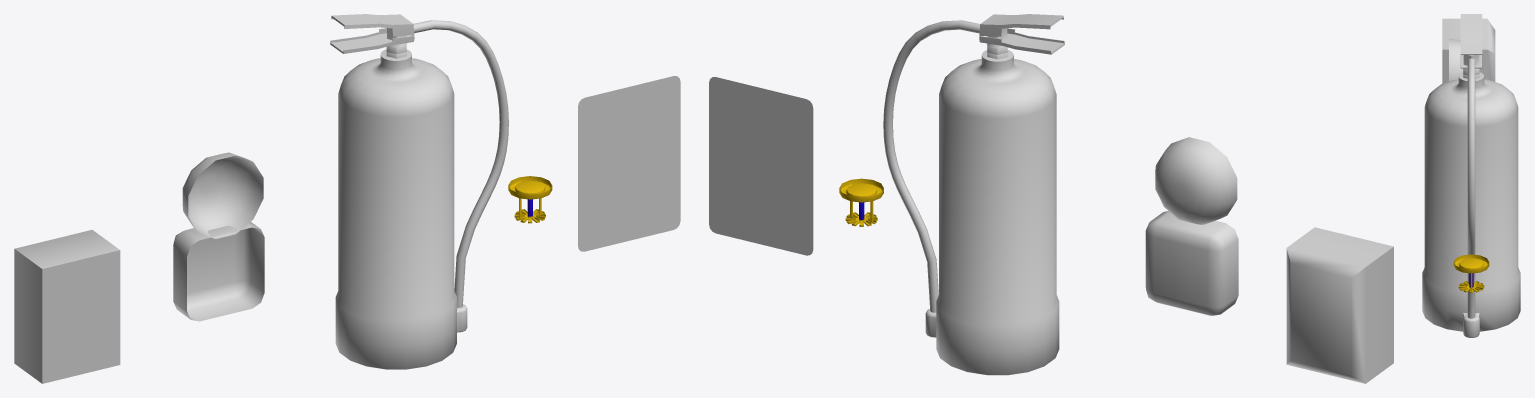
Rendered from Brandprops.fbx.
3 renders of one model, left to right at view 1: azimuth 30°, elevation 25°; view 2: azimuth 150°, elevation 25°; view 3: azimuth 270°, elevation 25°, orthographic. The views are drawn at different scales.
Visible parts, largest first — view 1: NurbsPath, Firealarm bord, Cube.001, Cylinder.002, Cylinder.003; view 2: NurbsPath, Firealarm bord, Cube.001, Cylinder.002, Cylinder.003; view 3: NurbsPath, Cube.001, Cylinder.003, Cylinder.002.
Part boxes in pixels (<box>): NurbsPath: <box>330,14,508,369</box>; Firealarm bord: <box>578,76,680,251</box>; Cube.001: <box>14,229,120,383</box>; Cylinder.002: <box>173,152,264,321</box>; Cylinder.003: <box>508,176,552,223</box>; NurbsPath: <box>883,14,1064,375</box>; Firealarm bord: <box>709,77,813,255</box>; Cube.001: <box>1286,227,1393,383</box>; Cylinder.002: <box>1145,137,1238,315</box>; Cylinder.003: <box>839,178,883,226</box>; NurbsPath: <box>1422,14,1520,337</box>; Cube.001: <box>1442,18,1495,83</box>; Cylinder.003: <box>1453,254,1489,292</box>; Cylinder.002: <box>1449,38,1463,81</box>.
Bounding box in the file's own units: 2.82 × 1.39 × 0.4511.
